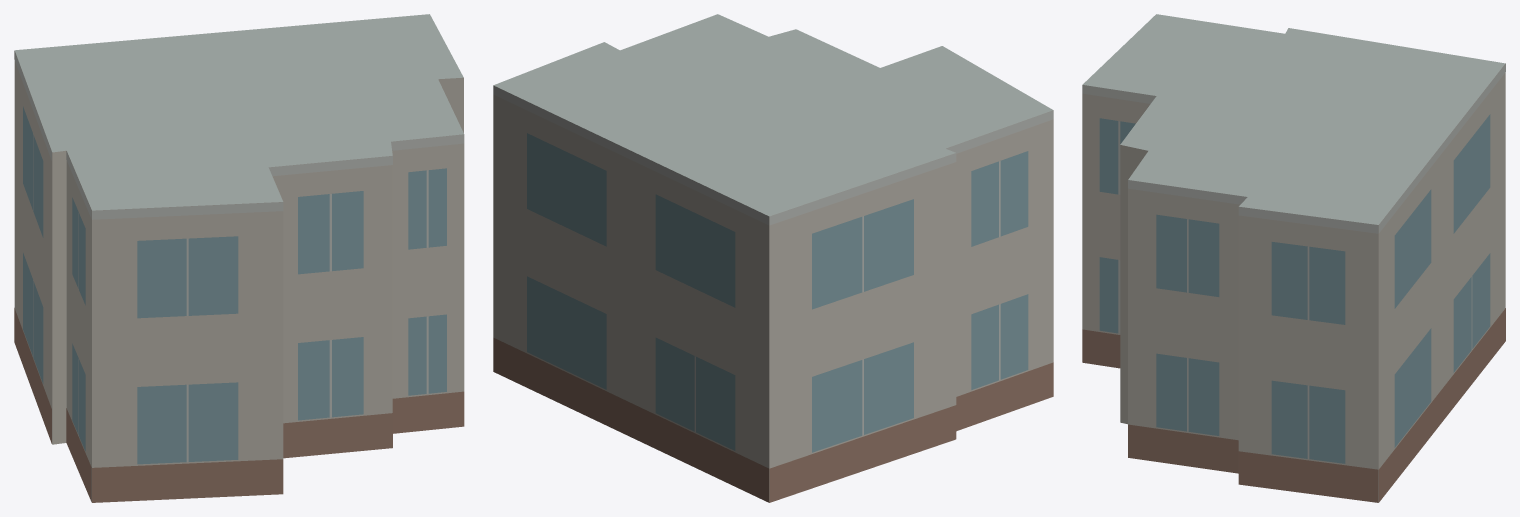
Rendered from survey-upis-32581574.glb.
3 renders of one model, left to right at view 1: azimuth 30°, elevation 25°; view 2: azimuth 150°, elevation 25°; view 3: azimuth 270°, elevation 25°, orthographic. The views are drawn at different scales.
Parts seen in each view (by area): view 1: survey-upis-32581574.tmp; view 2: survey-upis-32581574.tmp; view 3: survey-upis-32581574.tmp.
Boxes of the visible parts, x1,y1,x2,y2 form: survey-upis-32581574.tmp: [14, 14, 464, 502]; survey-upis-32581574.tmp: [493, 14, 1053, 502]; survey-upis-32581574.tmp: [1082, 14, 1505, 502].
Bounding box in the file's own units: 12.55 × 7.7 × 10.64.
